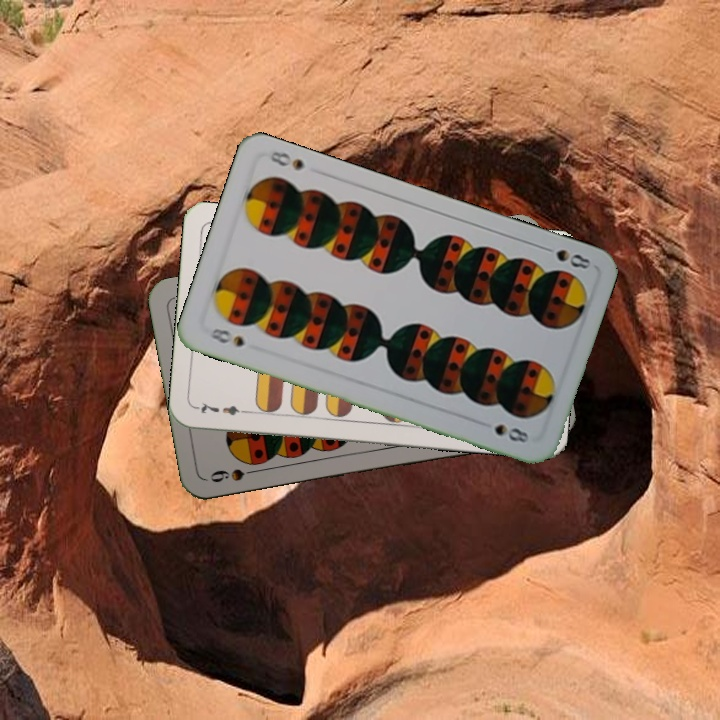E7: (193, 398, 252, 418)
S8: (536, 241, 593, 272), (205, 324, 247, 350)
S9: (206, 464, 264, 486)
